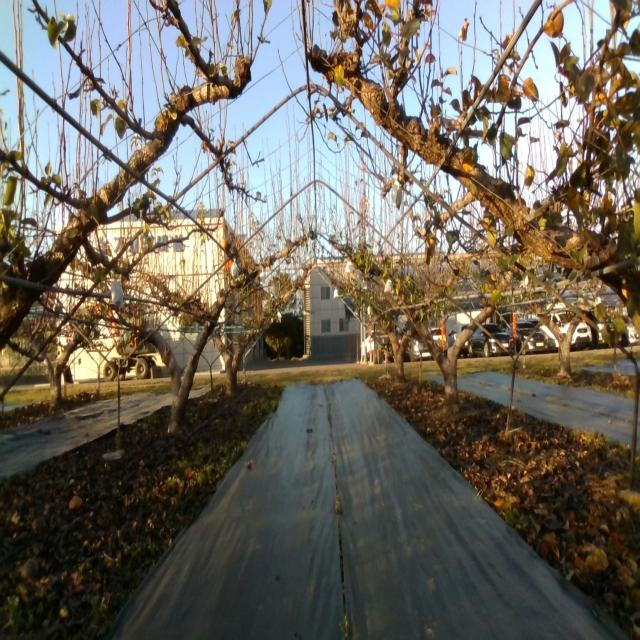pearbags: (111, 275, 126, 308), (391, 174, 403, 211)
